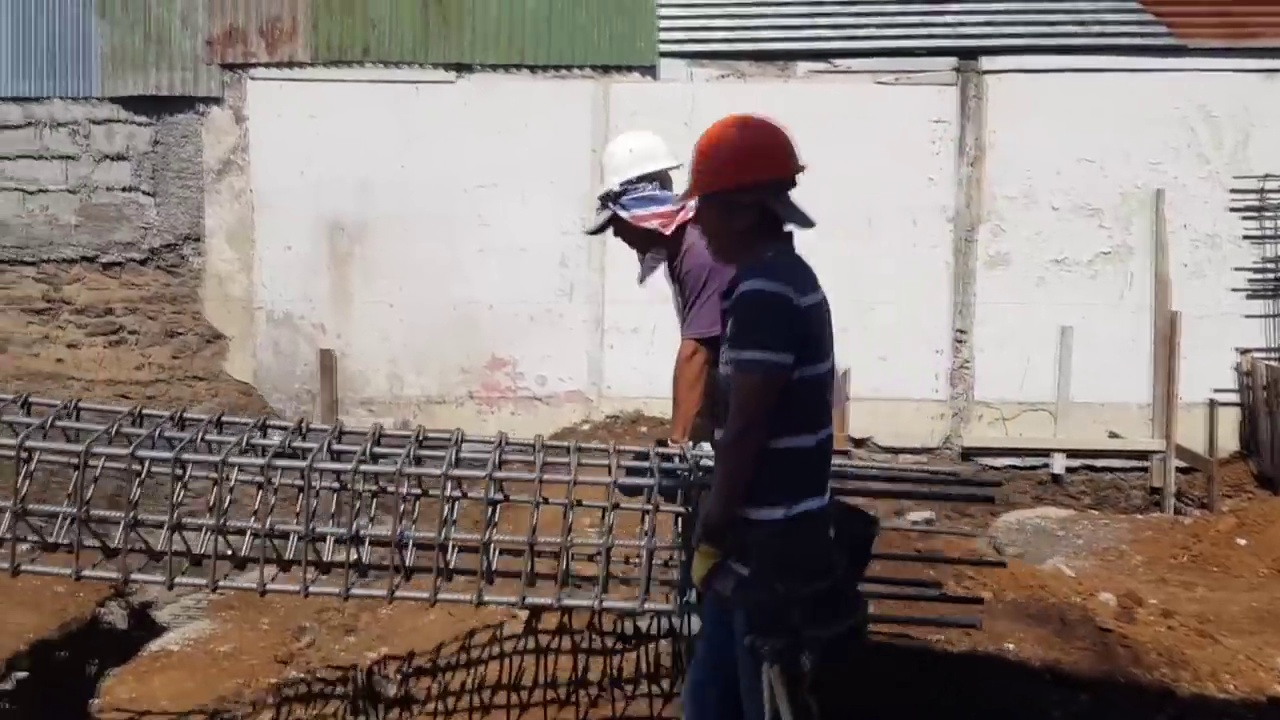helmet: (674, 111, 814, 202), (594, 124, 685, 207)
helmet-on: (685, 108, 814, 274), (602, 130, 692, 248)
person: (644, 108, 864, 693), (595, 135, 746, 470)
